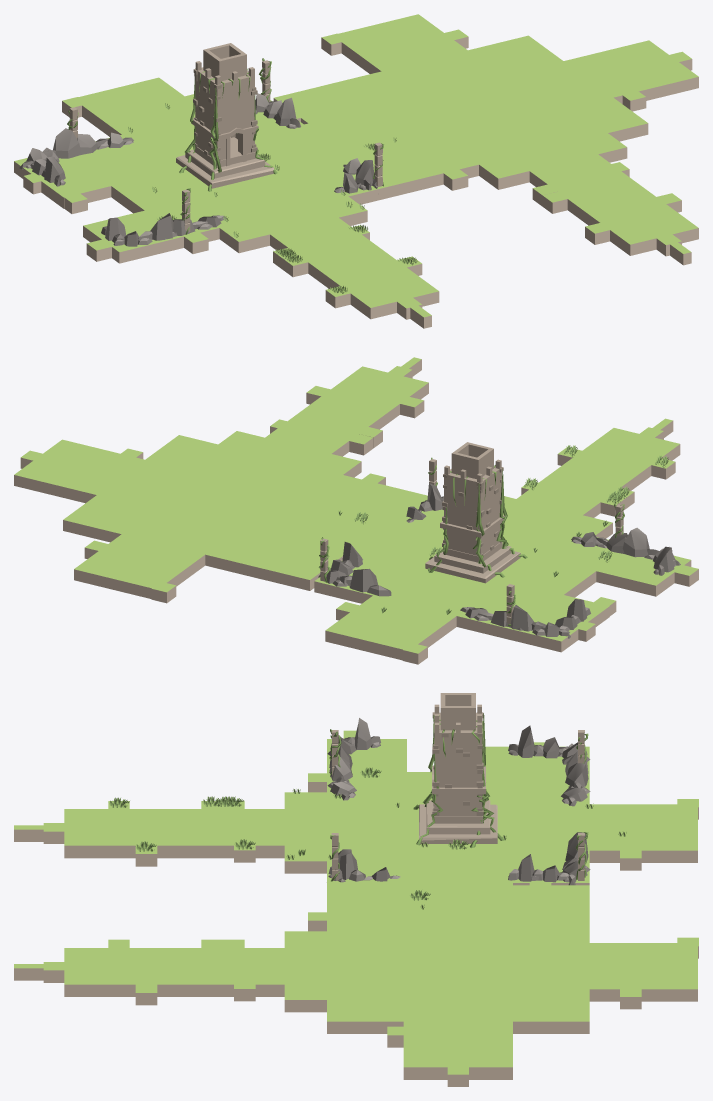
Rendered from planeGround.glb.
The picture shows the model from 3 angles, top to bottom: view 1: azimuth 30°, elevation 25°; view 2: azimuth 150°, elevation 25°; view 3: azimuth 270°, elevation 25°; orthographic projection. The views are drawn at different scales.
Visible parts, largest first — view 1: Object_7, Object_7.001, Object_3, Object_6.001, Object_6, Object_9, Object_11, Object_4, Object_2; view 2: Object_7, Object_7.001, Object_3, Object_6.001, Object_6, Object_9, Object_11, Object_4, Object_2; view 3: Object_7, Object_7.001, Object_6, Object_3, Object_9, Object_6.001, Object_11, Object_4, Object_2.
Boxes of the visible parts, x1,y1,x2,y2 form: Object_7: [274, 14, 698, 253]; Object_7.001: [14, 77, 438, 317]; Object_3: [69, 43, 382, 231]; Object_6.001: [14, 101, 439, 328]; Object_6: [273, 36, 698, 265]; Object_9: [19, 93, 377, 246]; Object_11: [67, 58, 384, 234]; Object_4: [128, 103, 375, 293]; Object_2: [193, 69, 257, 161]; Object_7: [14, 357, 443, 592]; Object_7.001: [265, 418, 698, 653]; Object_3: [320, 442, 623, 624]; Object_6.001: [314, 421, 698, 664]; Object_6: [14, 359, 428, 603]; Object_9: [318, 483, 680, 638]; Object_11: [318, 457, 624, 625]; Object_4: [354, 455, 668, 614]; Object_2: [442, 467, 503, 555]; Object_7: [14, 870, 698, 1074]; Object_7.001: [14, 730, 698, 935]; Object_6: [14, 920, 698, 1086]; Object_3: [331, 693, 584, 880]; Object_9: [327, 718, 590, 885]; Object_6.001: [14, 782, 698, 885]; Object_11: [329, 713, 588, 881]; Object_4: [108, 767, 626, 900]; Object_2: [432, 712, 483, 815].
Size of the model in its own units: 40.75 by 8.63 by 34.3.
